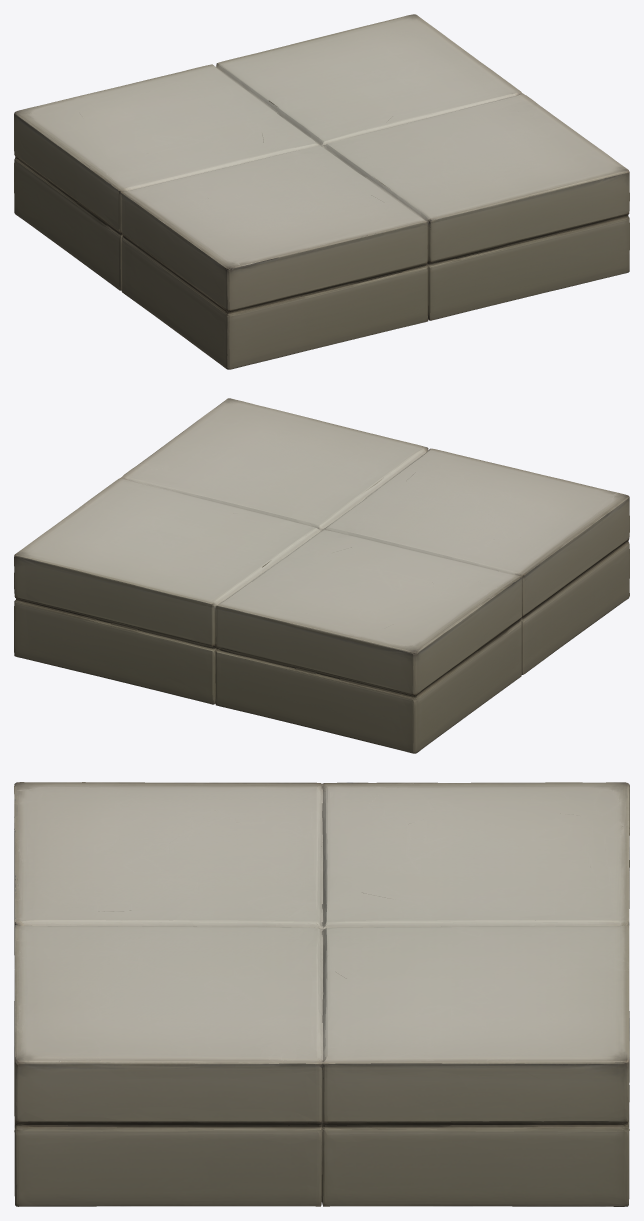
The picture shows the model from 3 angles, top to bottom: view 1: azimuth 30°, elevation 25°; view 2: azimuth 150°, elevation 25°; view 3: azimuth 270°, elevation 25°; orthographic projection. The views are drawn at different scales.
Visible parts, largest first — view 1: world; view 2: world; view 3: world.
Part boxes in pixels (x1,y1,x2,y2): world: (14, 14, 629, 369); world: (14, 398, 629, 753); world: (14, 782, 629, 1206).
Bounding box in the file's own units: 0.9951 × 0.2413 × 0.9208.
1 material, 1 textured.
